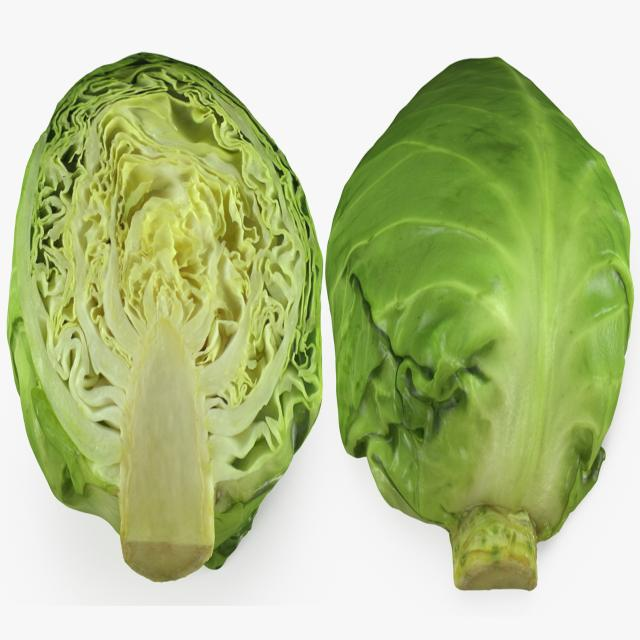haft-cabbage: (323, 36, 636, 605), (6, 41, 327, 589)
